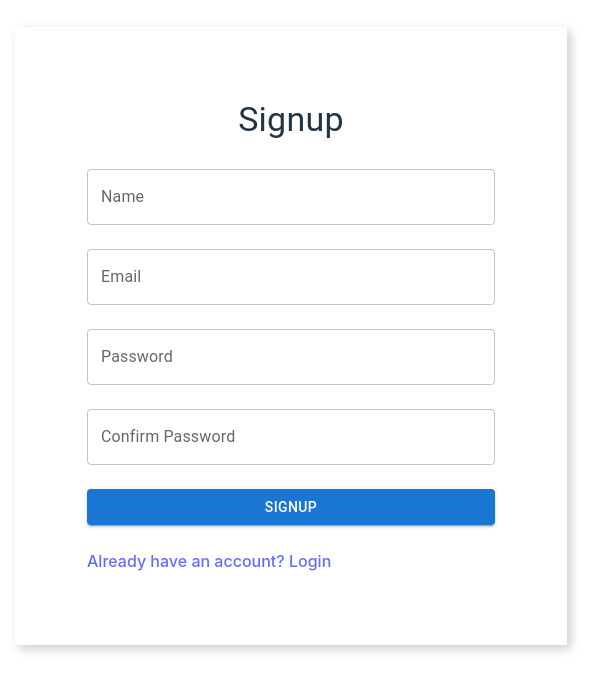
Test: Signup Component › displays generic error message on exception
Step 1. Type "John Doe" into the field labelled "Name" → (291, 197), box x1=87 y1=169 x2=495 y2=225
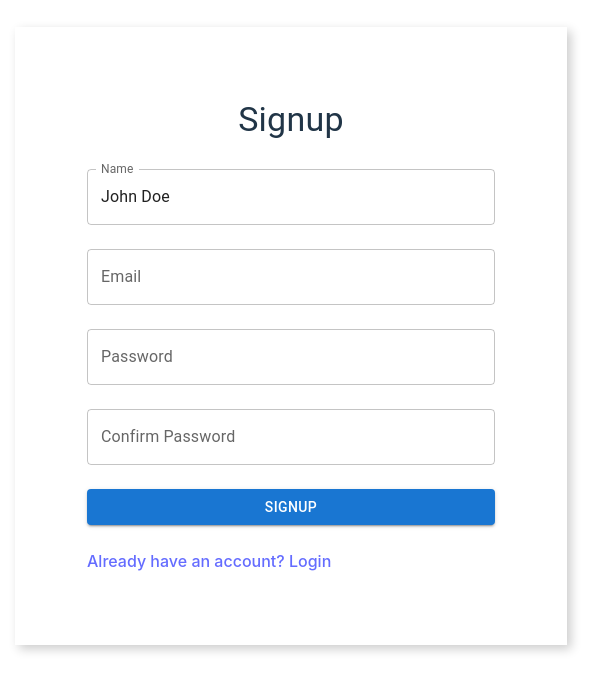
Step 2. Type "john.doe@example.com" into the field labelled "Email" → (291, 277), box x1=87 y1=249 x2=495 y2=305
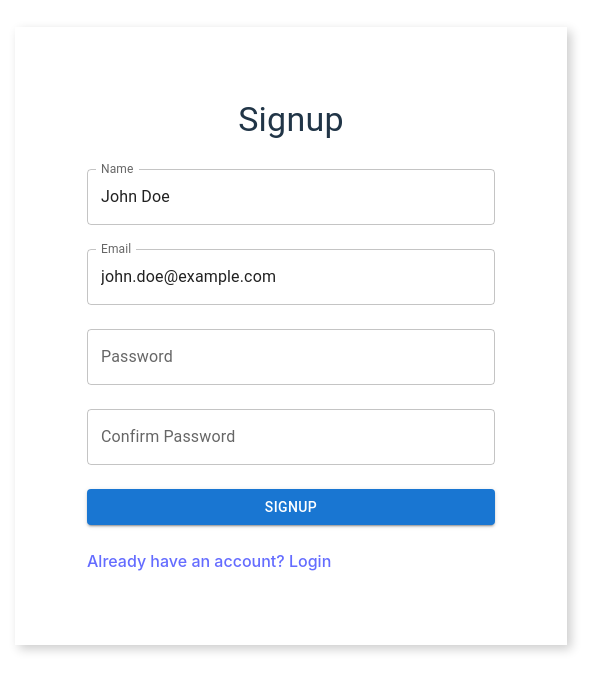
Step 3. Type "Password@123" into the password field labelled "Password" → (291, 357), box x1=87 y1=329 x2=495 y2=385
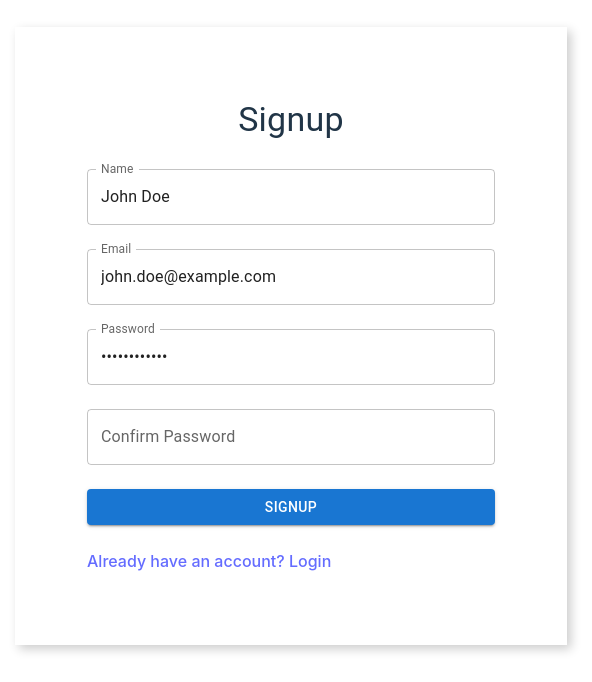
Step 4. Type "Password@123" into the password field labelled "Confirm Password" → (291, 437), box x1=87 y1=409 x2=495 y2=465
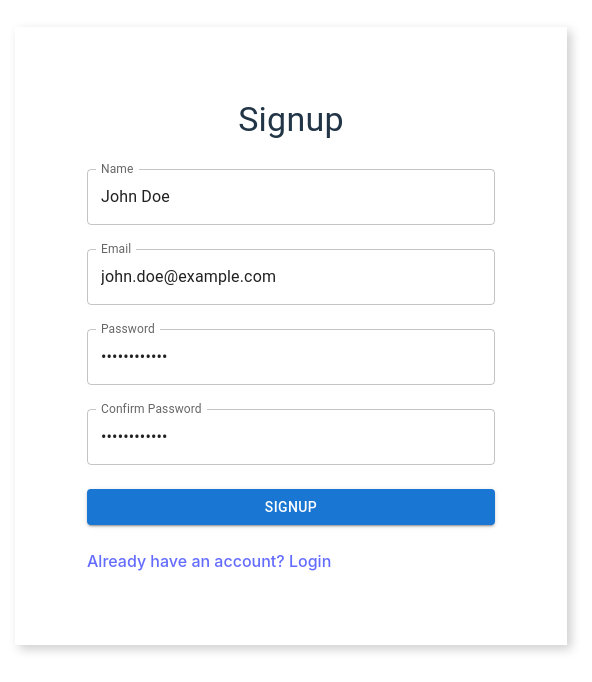
Step 5. Click the button "Signup" → (291, 507), box x1=87 y1=489 x2=495 y2=525
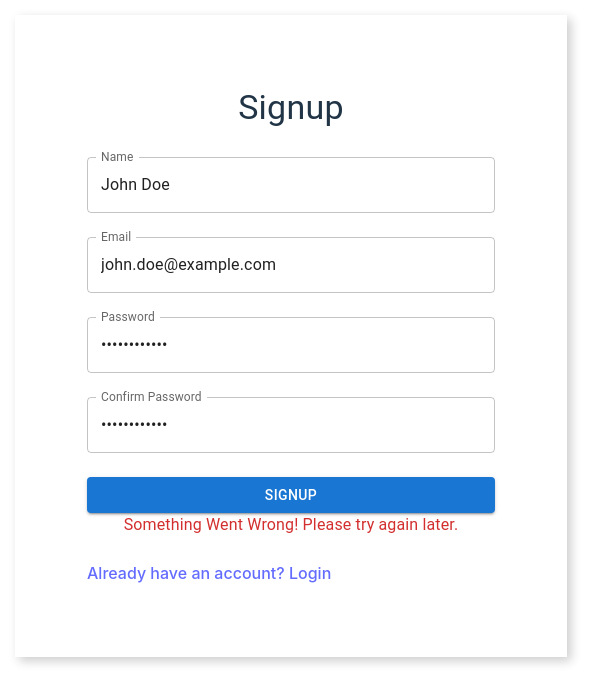
Expected: the text "Something Went Wrong! Please try again later." is shown, x1=124 y1=515 x2=458 y2=534
